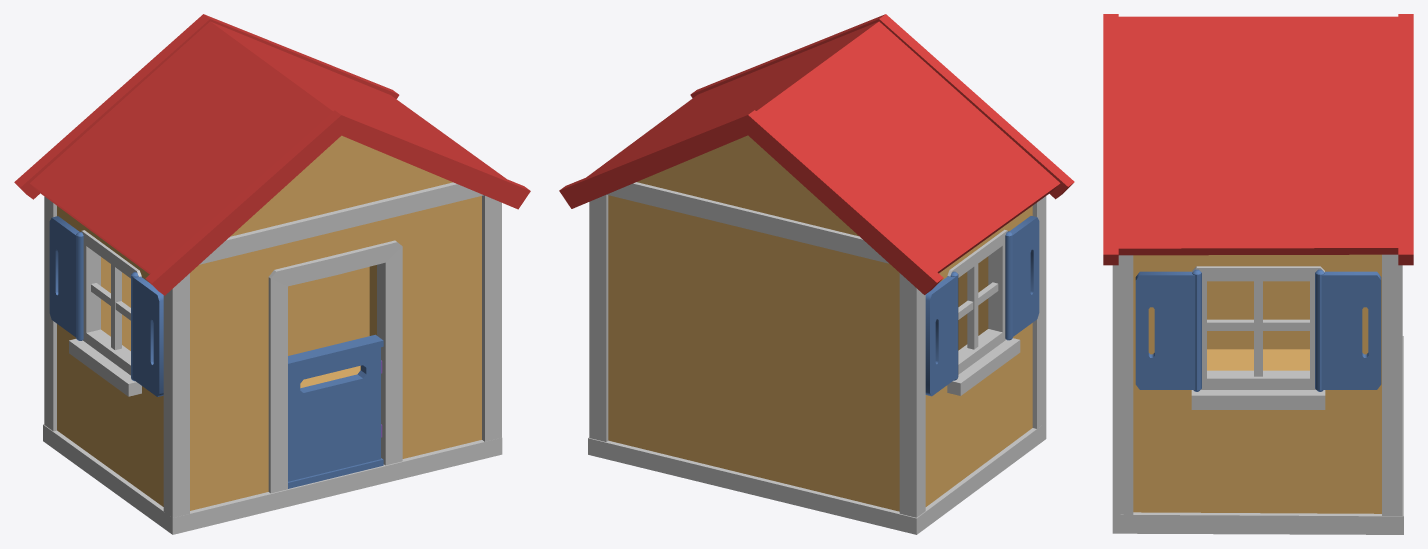
Rendered from KidHouse_01.fbx.
3 views of the same model, side by side, from view 1: azimuth 30°, elevation 25°; view 2: azimuth 150°, elevation 25°; view 3: azimuth 270°, elevation 25° (orthographic). The views are drawn at different scales.
Visible parts, largest first — view 1: KidHouse_01, KidHouse_01_Door, KidHouse_01_WindowCover_L_L, KidHouse_01_WindowCover_L_R; view 2: KidHouse_01, KidHouse_01_WindowCover_L_R, KidHouse_01_WindowCover_L_L; view 3: KidHouse_01, KidHouse_01_WindowCover_R_L, KidHouse_01_WindowCover_R_R.
Boxes of the visible parts, box(x1,y1,x2,y2) form: KidHouse_01: box(14, 14, 530, 534); KidHouse_01_Door: box(288, 334, 383, 488); KidHouse_01_WindowCover_L_L: box(49, 216, 83, 340); KidHouse_01_WindowCover_L_R: box(131, 272, 163, 396); KidHouse_01: box(559, 14, 1074, 534); KidHouse_01_WindowCover_L_R: box(1005, 216, 1039, 340); KidHouse_01_WindowCover_L_L: box(925, 271, 958, 396); KidHouse_01: box(1103, 14, 1413, 534); KidHouse_01_WindowCover_R_L: box(1135, 269, 1201, 391); KidHouse_01_WindowCover_R_R: box(1315, 269, 1381, 391).
Bounding box in the file's own units: 1.92 × 1.86 × 1.21.
